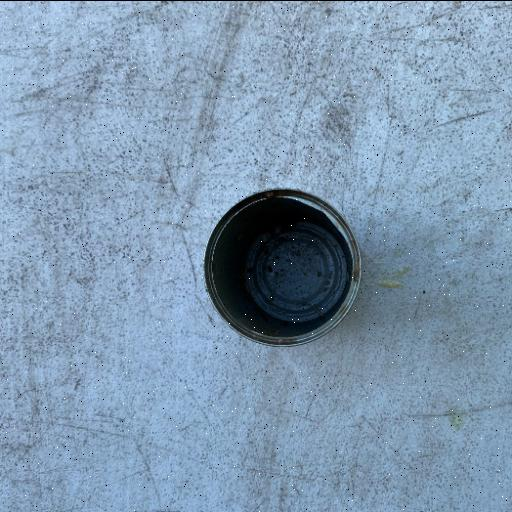Metal: (1, 3, 509, 510), (202, 186, 364, 348)
